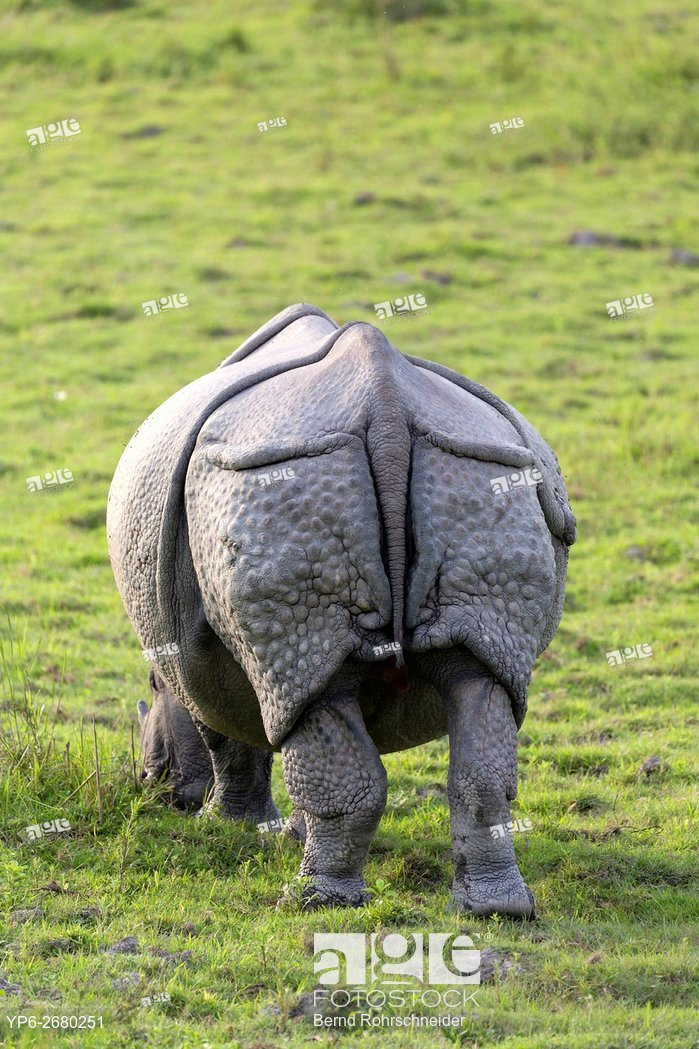rhinoceros: (98, 301, 576, 932)
